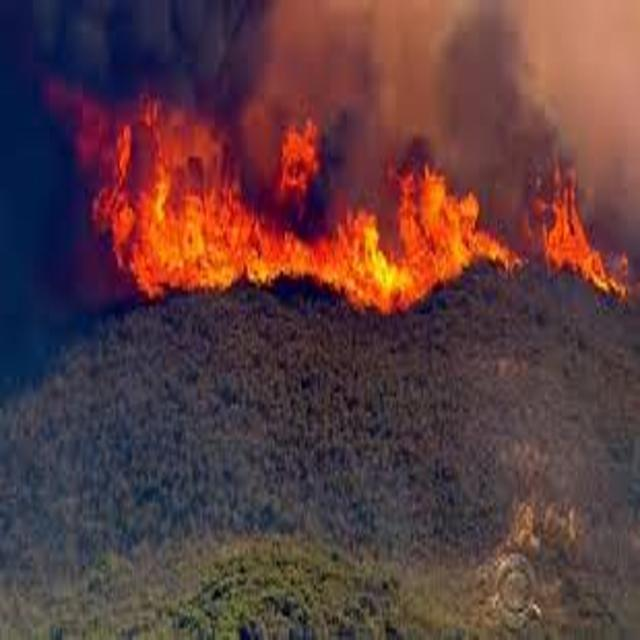Fire: (97, 107, 638, 310)
Smoke: (264, 1, 640, 106), (0, 0, 95, 345), (97, 0, 261, 104)
